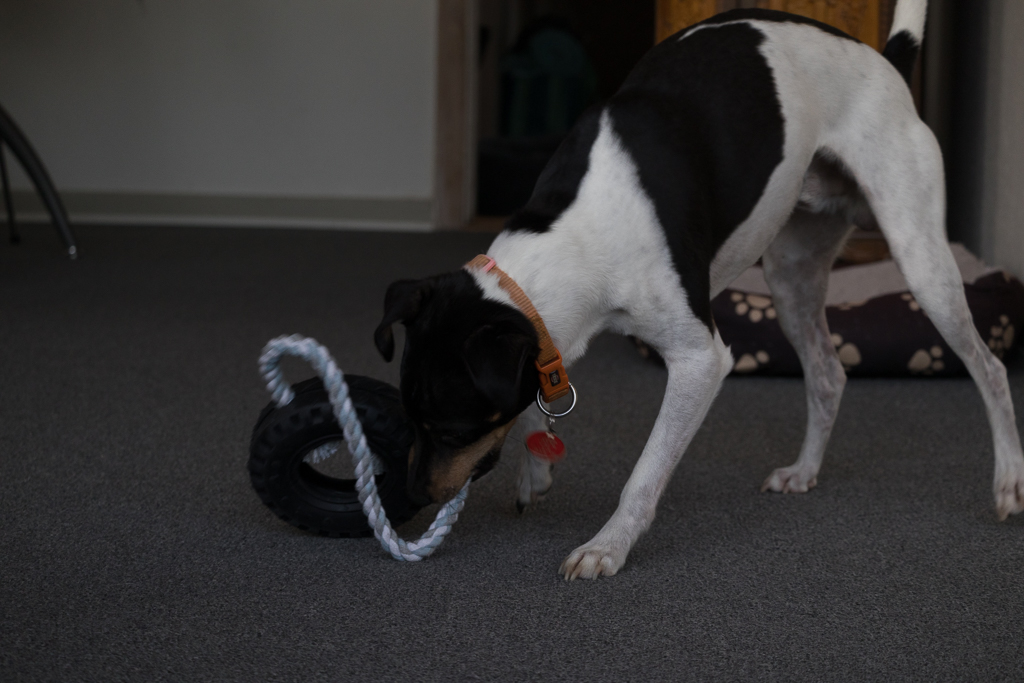Dog: (365, 0, 1024, 588)
